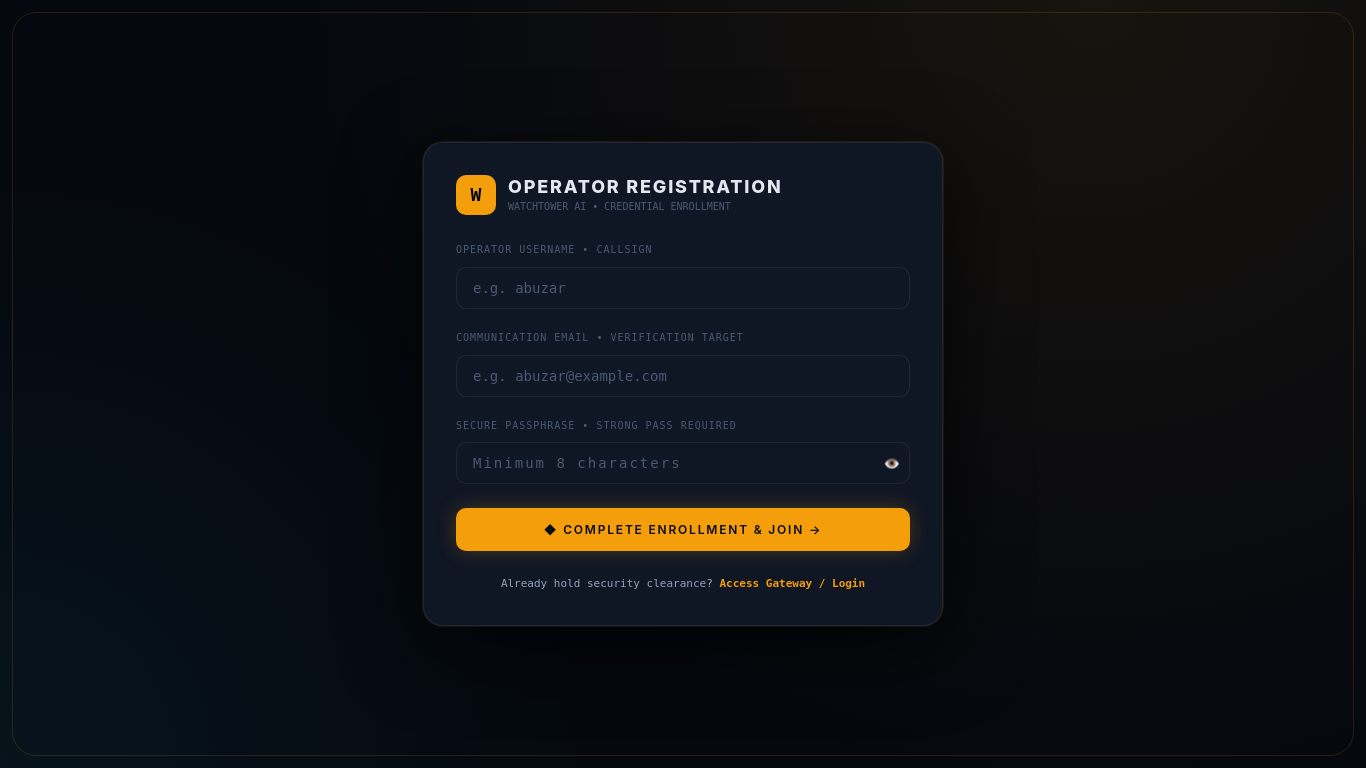
Test: Signup Password Requirements & Strength Hint › reveals strength bar and passes 5 rules progressively as characters are typed
Type "pass" into the password field with test id "signup-password-input" at [683, 463], box [456, 442, 910, 484]
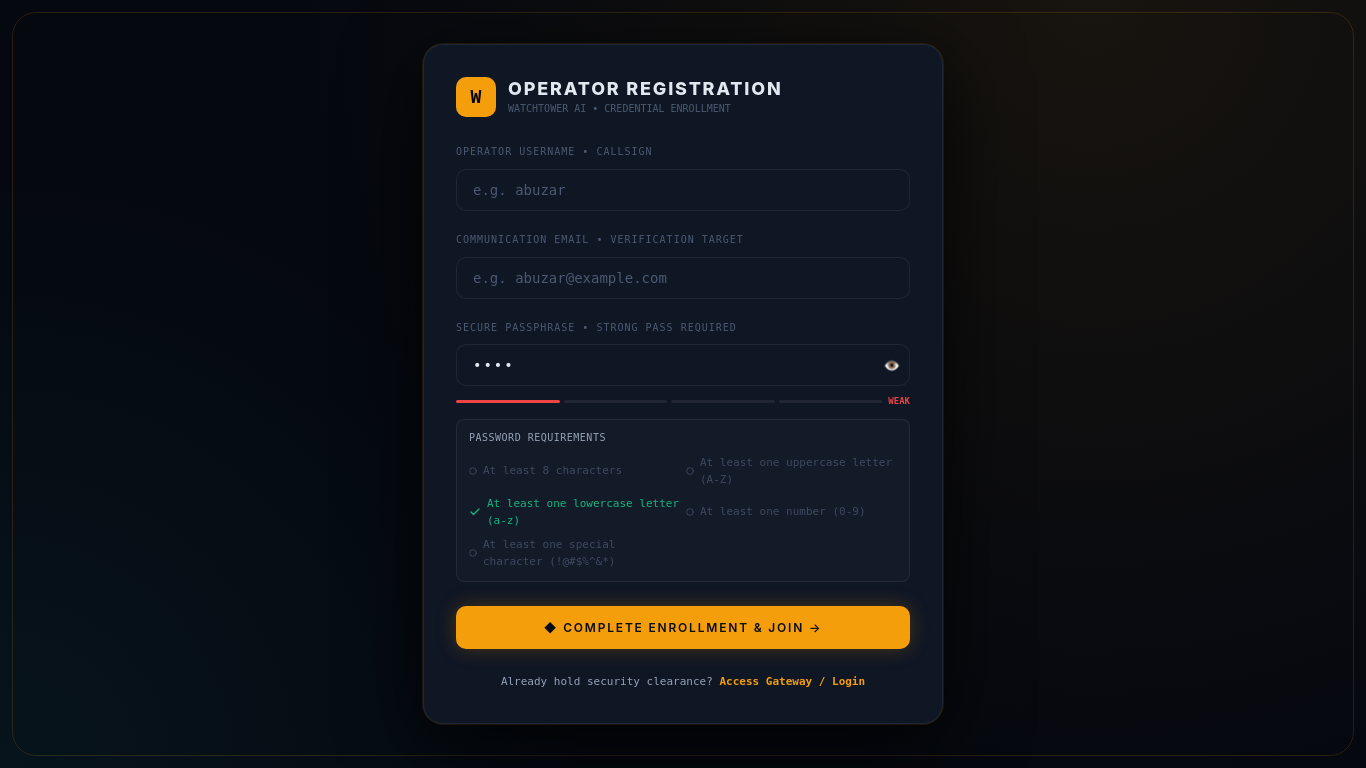
Check: the button with test id "signup-submit-button" is enabled, box [456, 606, 910, 649]
Check: the element with test id "password-strength-bar" is shown, box [456, 394, 910, 408]
Check: the element with test id "password-strength-bar" reads "WEAK", box [888, 396, 910, 406]
Type "passWord1" into the password field with test id "signup-password-input" at [683, 365], box [456, 344, 910, 386]
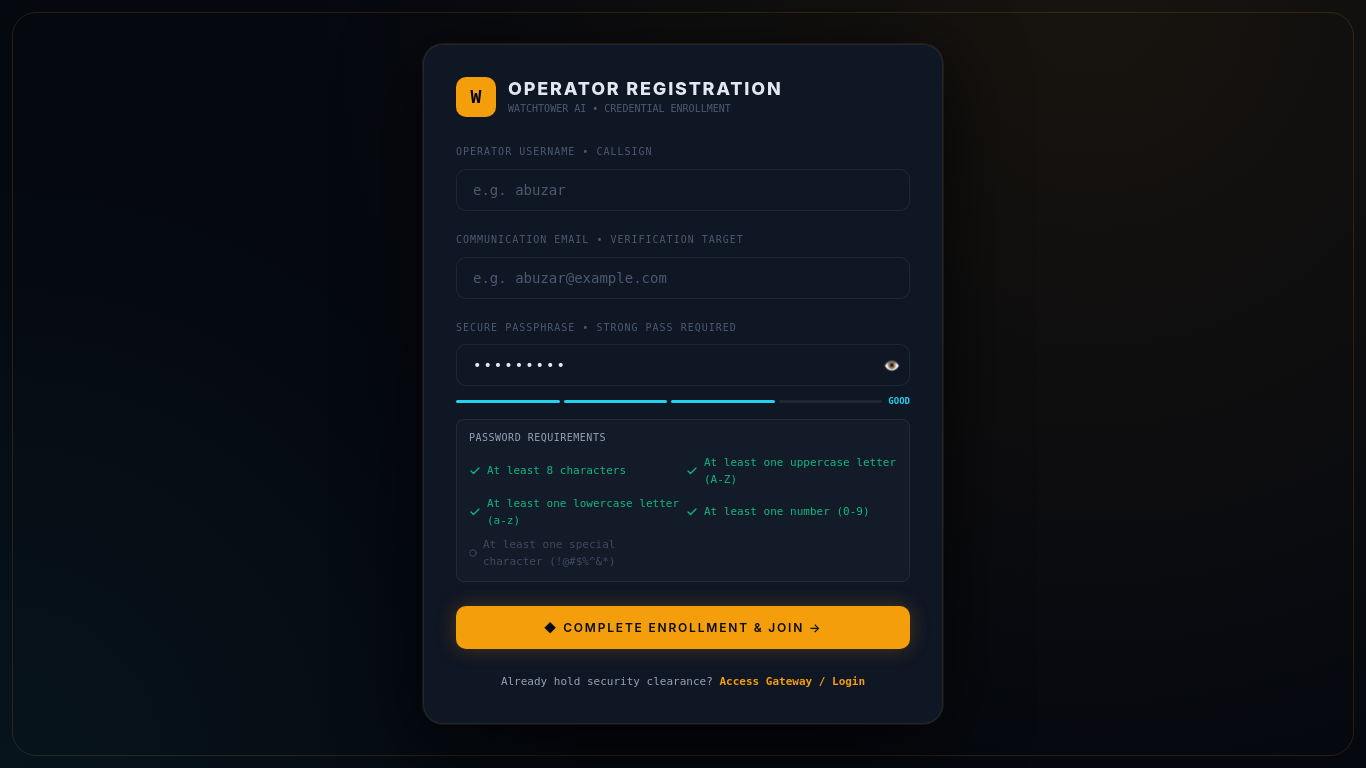
Check: the button with test id "signup-submit-button" is enabled, box [456, 606, 910, 649]
Check: the element with test id "password-strength-bar" reads "GOOD", box [888, 396, 910, 406]
Type "passWord1!" into the password field with test id "signup-password-input" at [683, 365], box [456, 344, 910, 386]
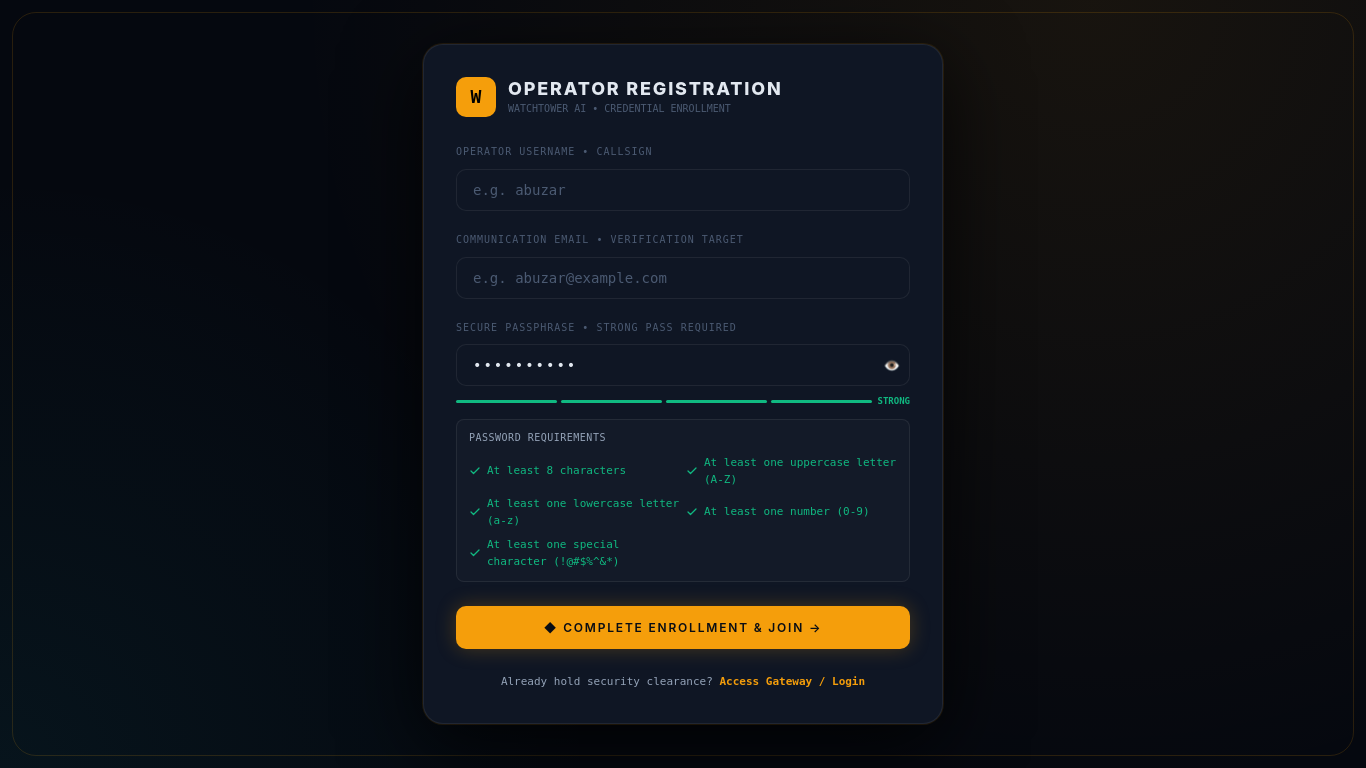
Check: the button with test id "signup-submit-button" is enabled, box [456, 606, 910, 649]
Check: the element with test id "password-strength-bar" reads "STRONG", box [878, 396, 910, 406]
